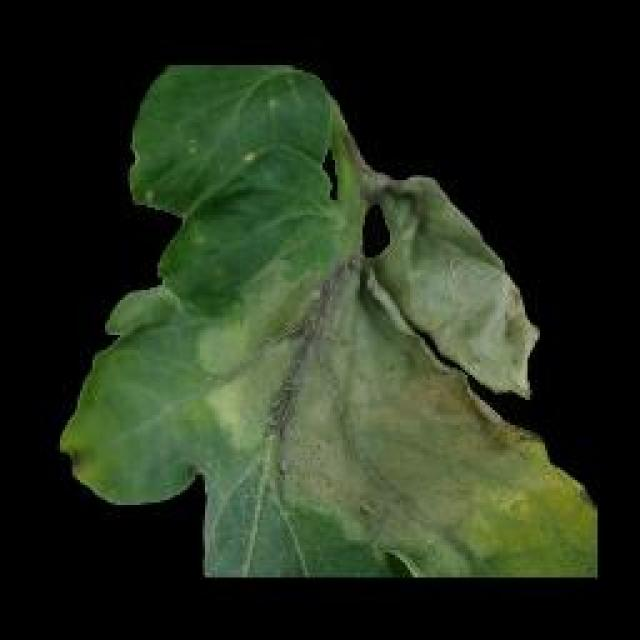Tomato Late Blight: (220, 195, 503, 538)
